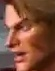kevin: (1, 0, 53, 70)
